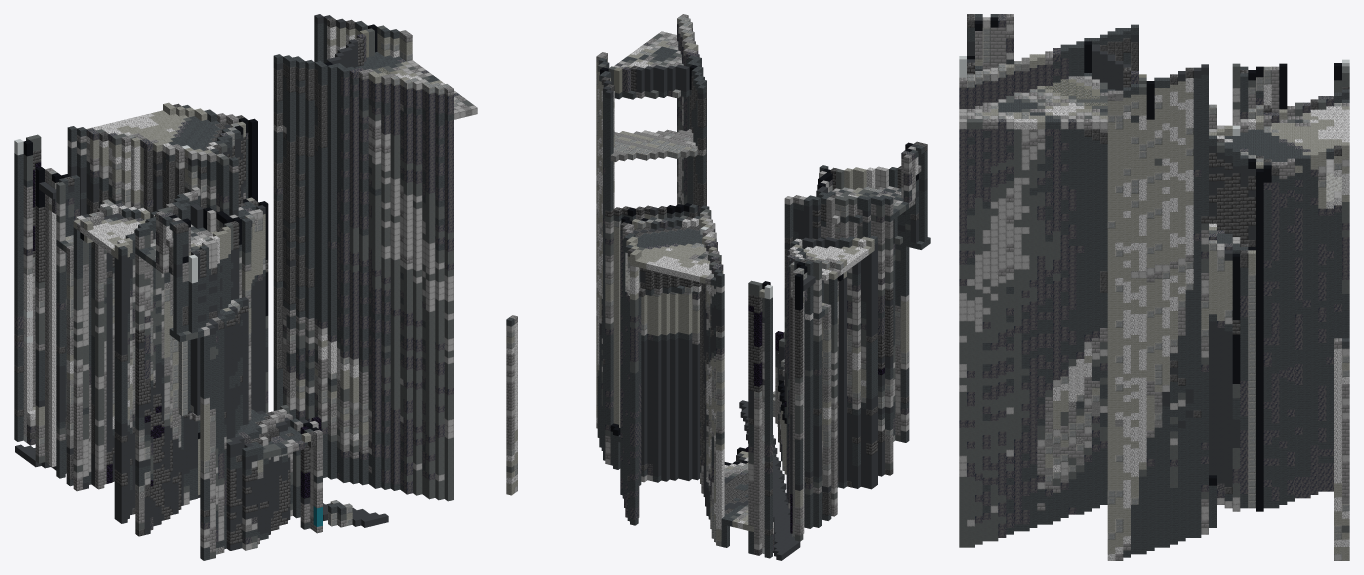
Rendered from tile_2_0.glb.
3 renders of one model, left to right at view 1: azimuth 30°, elevation 25°; view 2: azimuth 150°, elevation 25°; view 3: azimuth 270°, elevation 25°, orthographic. The views are drawn at different scales.
Parts seen in each view (by area): view 1: minecraft:gray_wool:south, minecraft:gray_concrete:south, minecraft:gray_wool:west, minecraft:cyan_terracotta:south, minecraft:basalt:south, minecraft:smooth_stone:south, minecraft:basalt:west, minecraft:cyan_terracotta:west, minecraft:stone_bricks:south, minecraft:polished_deepslate:south, minecraft:deepslate_bricks:south, minecraft:light_gray_wool:south (+26 smaller); view 2: minecraft:gray_wool:north, minecraft:gray_concrete:north, minecraft:gray_wool:west, minecraft:light_gray_wool:north, minecraft:gray_concrete:west, minecraft:stone_bricks:north, minecraft:smooth_stone:north, minecraft:cyan_terracotta:north, minecraft:diorite:north, minecraft:polished_andesite:north, minecraft:deepslate_bricks:north, minecraft:basalt:north (+27 smaller); view 3: minecraft:gray_wool:east, minecraft:light_gray_wool:east, minecraft:basalt:east, minecraft:cyan_terracotta:east, minecraft:diorite:east, minecraft:smooth_stone:east, minecraft:smooth_basalt:east, minecraft:polished_andesite:east, minecraft:stone_bricks:east, minecraft:gray_concrete:east, minecraft:black_concrete:east, minecraft:gray_wool:up (+11 smaller).
Part boxes in pixels (<box>): minecraft:gray_wool:south: <box>17,23,453,560</box>; minecraft:gray_concrete:south: <box>35,16,388,550</box>; minecraft:gray_wool:west: <box>14,22,447,560</box>; minecraft:cyan_terracotta:south: <box>27,31,453,559</box>; minecraft:basalt:south: <box>27,77,453,541</box>; minecraft:smooth_stone:south: <box>27,83,477,550</box>; minecraft:basalt:west: <box>23,76,447,529</box>; minecraft:cyan_terracotta:west: <box>23,27,447,529</box>; minecraft:stone_bricks:south: <box>27,35,453,552</box>; minecraft:polished_deepslate:south: <box>17,20,355,536</box>; minecraft:deepslate_bricks:south: <box>33,40,363,544</box>; minecraft:light_gray_wool:south: <box>39,27,412,519</box>; minecraft:gray_wool:north: <box>506,57,924,558</box>; minecraft:gray_concrete:north: <box>599,67,924,560</box>; minecraft:gray_wool:west: <box>511,58,930,558</box>; minecraft:light_gray_wool:north: <box>506,35,905,540</box>; minecraft:gray_concrete:west: <box>608,67,927,560</box>; minecraft:stone_bricks:north: <box>506,50,908,538</box>; minecraft:smooth_stone:north: <box>506,28,908,550</box>; minecraft:cyan_terracotta:north: <box>506,66,910,541</box>; minecraft:diorite:north: <box>506,88,871,548</box>; minecraft:polished_andesite:north: <box>506,18,905,546</box>; minecraft:deepslate_bricks:north: <box>605,68,901,455</box>; minecraft:basalt:north: <box>601,24,908,516</box>; minecraft:gray_wool:east: <box>967,27,1349,557</box>; minecraft:light_gray_wool:east: <box>975,57,1349,560</box>; minecraft:basalt:east: <box>959,20,1349,537</box>; minecraft:cyan_terracotta:east: <box>959,66,1349,547</box>; minecraft:diorite:east: <box>1014,78,1349,560</box>; minecraft:smooth_stone:east: <box>959,20,1349,560</box>; minecraft:smooth_basalt:east: <box>1053,54,1341,500</box>; minecraft:polished_andesite:east: <box>967,27,1349,539</box>; minecraft:stone_bricks:east: <box>959,17,1349,560</box>; minecraft:gray_concrete:east: <box>967,35,1255,486</box>; minecraft:black_concrete:east: <box>967,20,1341,511</box>; minecraft:gray_wool:up: <box>975,14,1349,341</box>.
Bounding box in the file's own units: 50 × 67 × 50.
Materials: 138 (138 with a texture image).
